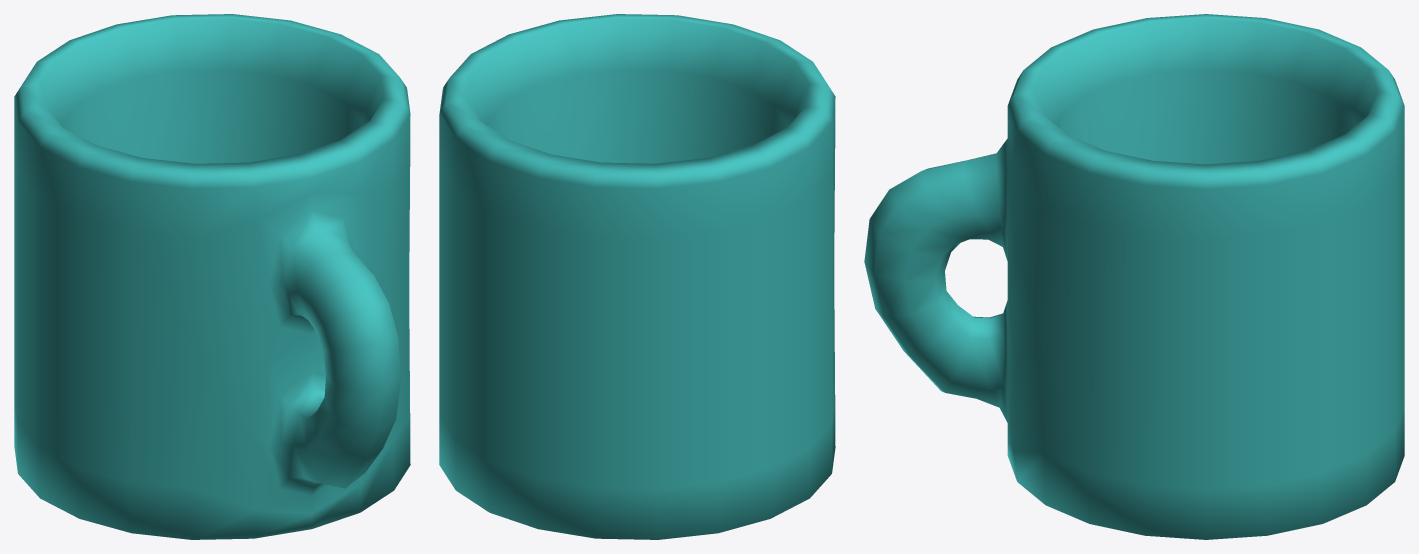
Rendered from 0709mug.fbx.
3 views of the same model, side by side, from view 1: azimuth 30°, elevation 25°; view 2: azimuth 150°, elevation 25°; view 3: azimuth 270°, elevation 25° (orthographic).
Parts seen in each view (by area): view 1: mug; view 2: mug; view 3: mug.
Boxes of the visible parts, x1,y1,x2,y2 form: mug: (14,14,410,539); mug: (439,14,835,539); mug: (864,14,1404,539).
Size of the model in its own units: 3.81 by 4 by 5.18.
